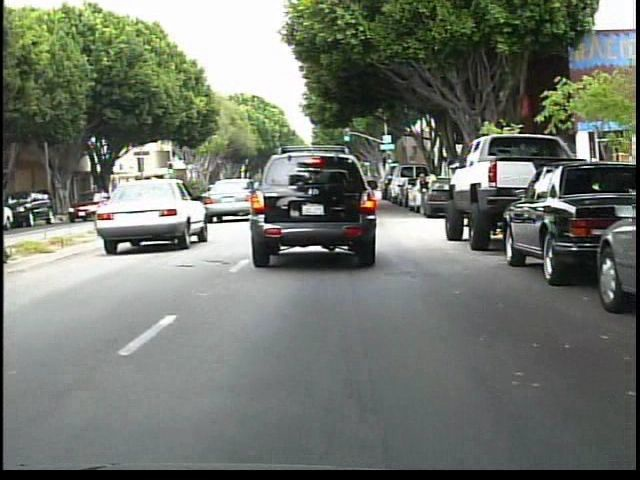person: (415, 171, 431, 220), (424, 166, 439, 209)
